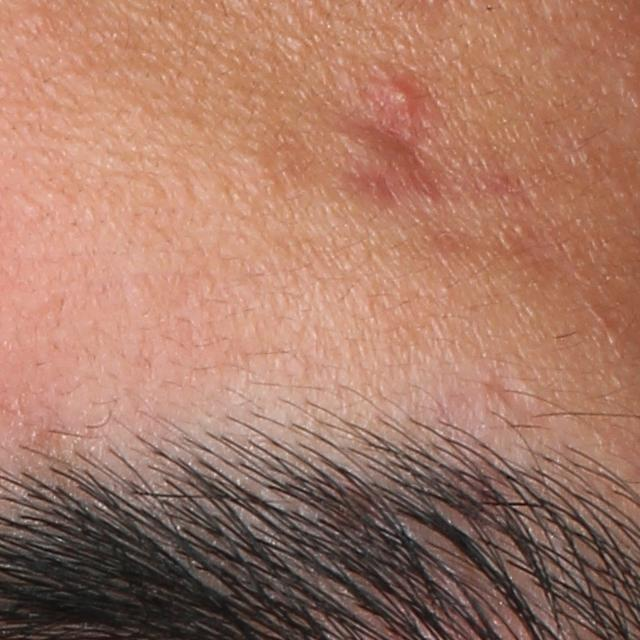atrophic_scar: (481, 370, 538, 420)
papule: (373, 76, 435, 126)
